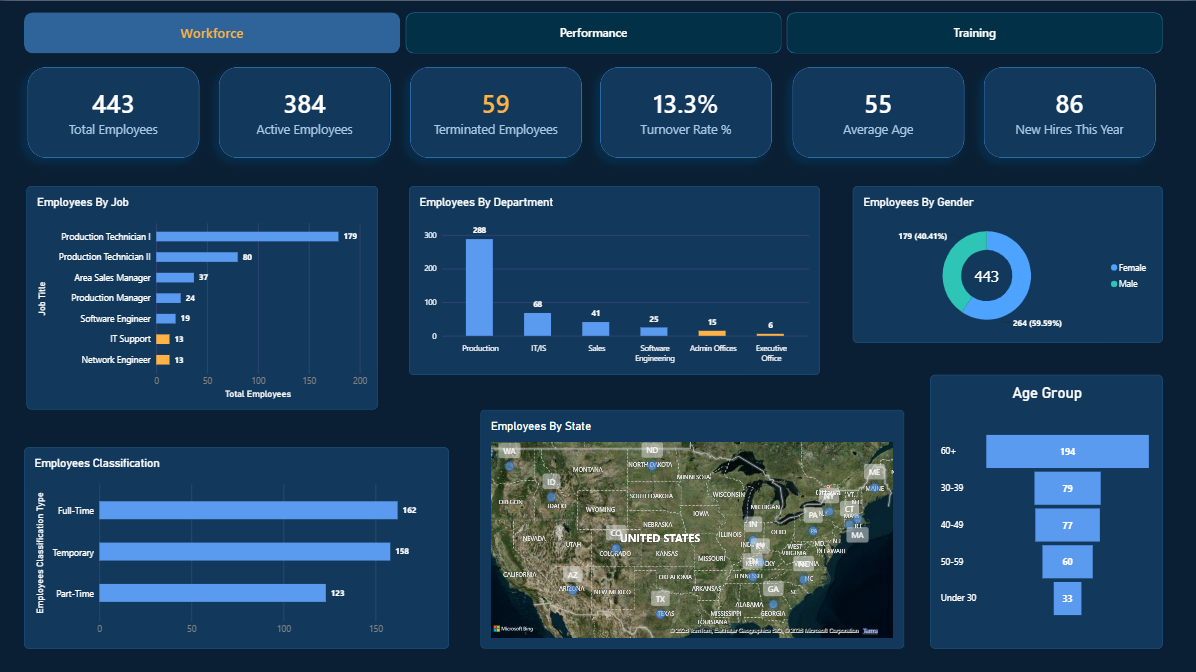

Layout of this report page (visuals, bound fields, positions):
{"tool":"powerbi","page":{"name":"Workforce ","canvas":[1920,1080],"ordinal":0},"visuals":[{"type":"cardVisual","title":"Total employees","fields":{"Data":["DAX.Total Employees"]},"box":[45.2,106.4,274,145],"z":0},{"type":"cardVisual","title":"Total employees","fields":{"Data":["DAX.Active Employees"]},"box":[351.5,106.4,274,145],"z":1000},{"type":"cardVisual","title":"Total employees","fields":{"Data":["DAX.Terminated Employees"]},"box":[657.8,106.4,274,145],"z":2000},{"type":"cardVisual","title":"Total employees","fields":{"Data":["DAX.Turnover Rate %"]},"box":[962,106,274,145],"z":3000},{"type":"cardVisual","title":"Total employees","fields":{"Data":["DAX.Avarage Age"]},"box":[1270.4,106.4,274,145],"z":4000},{"type":"donutChart","title":"Employees By Gender","fields":{"Category":["public employees.gender_code"],"Y":["DAX.Total Employees"]},"box":[1366,296,496.2,251.2],"z":5000},{"type":"clusteredBarChart","title":"Employees Classification","fields":{"Category":["public employees.employee_classification_type"],"Y":["DAX.Total Employees"]},"box":[40,714,680,322],"z":6000},{"type":"funnel","title":"Age Group","fields":{"Category":["public employees.Age Group"],"Y":["DAX.Total Employees"]},"box":[1490,598,372,438],"z":7000},{"type":"barChart","title":"Employees By Job","fields":{"Category":["public jobs.title"],"Y":["DAX.Total Employees"]},"box":[44,296,562.5,357.5],"z":8000},{"type":"cardVisual","title":"Total employees","fields":{"Data":["DAX.New Hires This Year"]},"box":[1576.7,106.4,274,145],"z":9000},{"type":"map","title":"Employees By State","fields":{"Category":["public states.state_code"]},"box":[770,654,678,382],"z":10000},{"type":"columnChart","title":"Employees By Department","fields":{"Category":["public departments.department_name"],"Y":["DAX.Total Employees"]},"box":[656,296,657.5,302.5],"z":11000},{"type":"pageNavigator","box":[40,18,1822,66],"z":12000}]}

Visuals, with their boxes in screenshot pixels (x1, y1, x2, y2), scaled from the page's 1920x1080 canvas onto the 1196x672 screenshot:
"Total employees" cardVisual: (28, 66, 199, 156)
"Total employees" cardVisual: (219, 66, 390, 156)
"Total employees" cardVisual: (410, 66, 580, 156)
"Total employees" cardVisual: (599, 66, 770, 156)
"Total employees" cardVisual: (791, 66, 962, 156)
"Employees By Gender" donutChart: (851, 184, 1160, 340)
"Employees Classification" clusteredBarChart: (25, 444, 448, 645)
"Age Group" funnel: (928, 372, 1160, 645)
"Employees By Job" barChart: (27, 184, 378, 407)
"Total employees" cardVisual: (982, 66, 1153, 156)
"Employees By State" map: (480, 407, 902, 645)
"Employees By Department" columnChart: (409, 184, 818, 372)
pageNavigator: (25, 11, 1160, 52)
